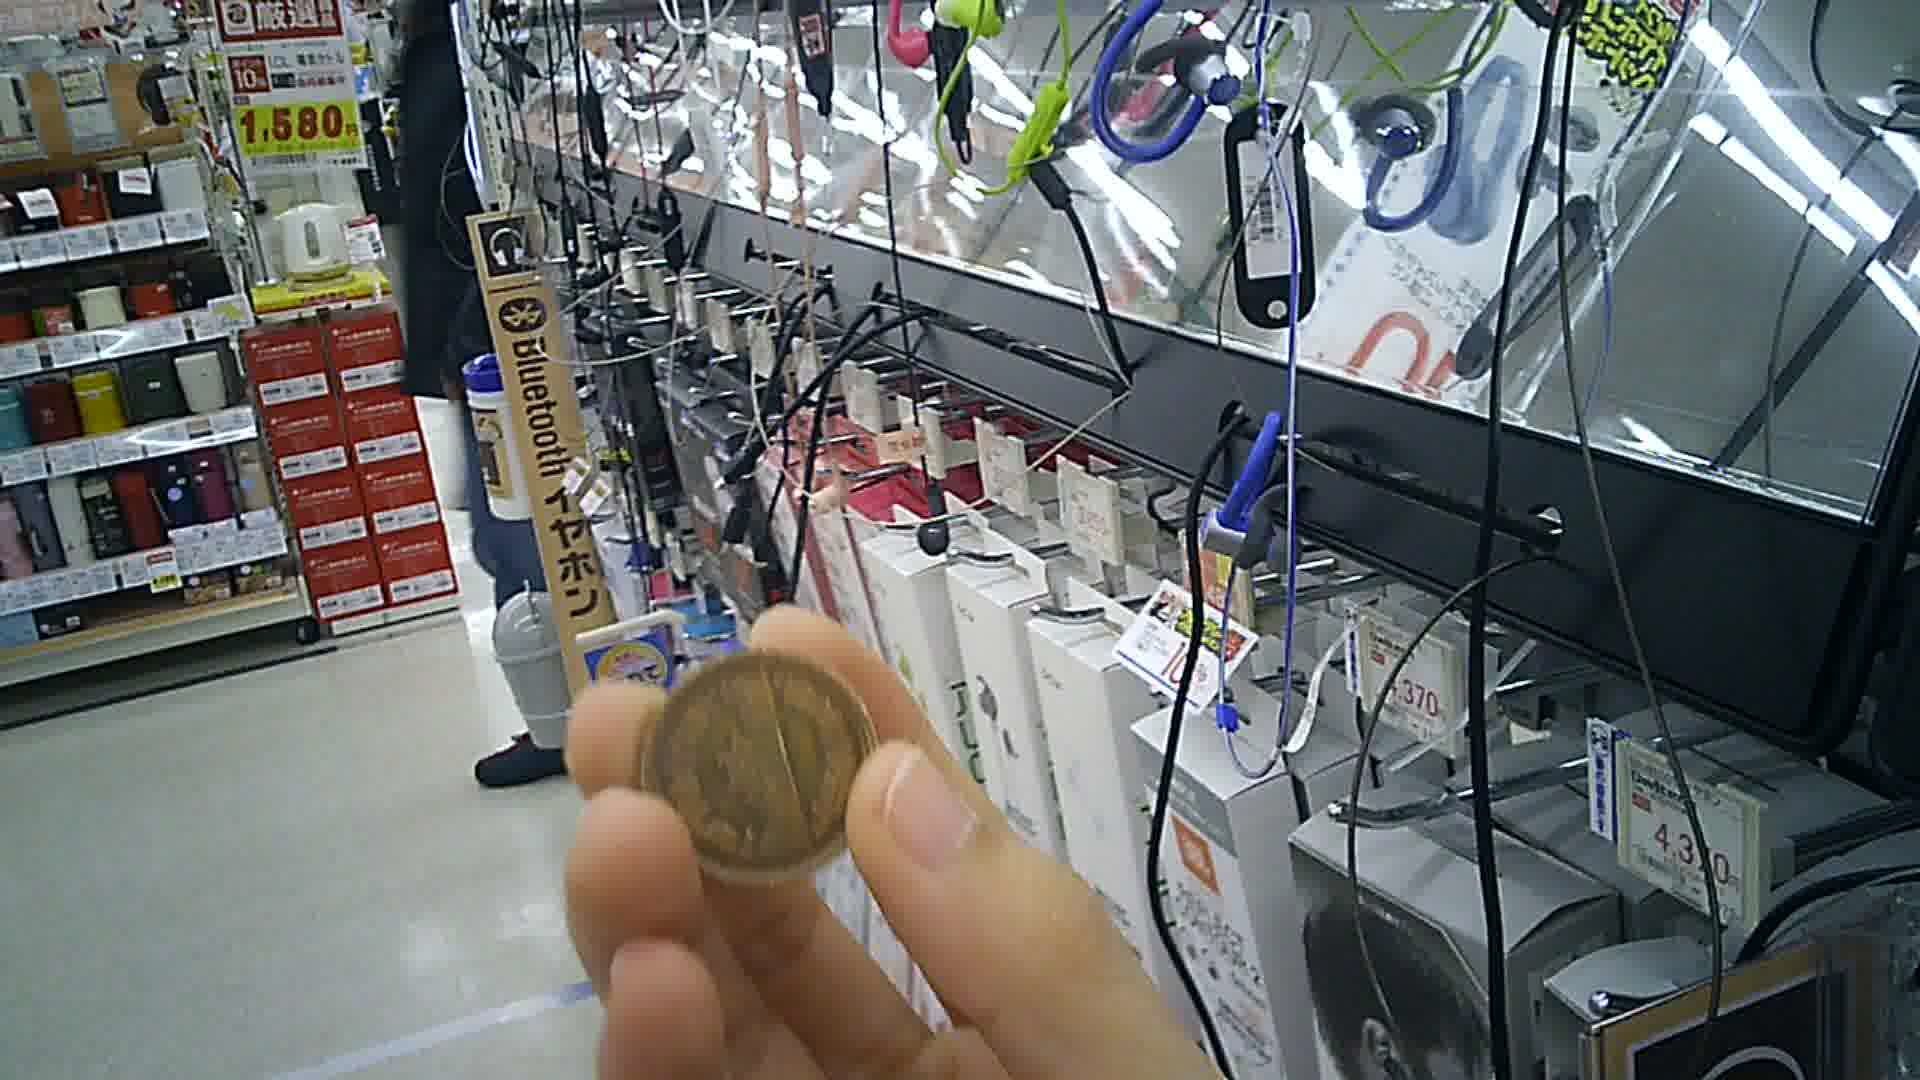10 Yen: (633, 651, 885, 887)
